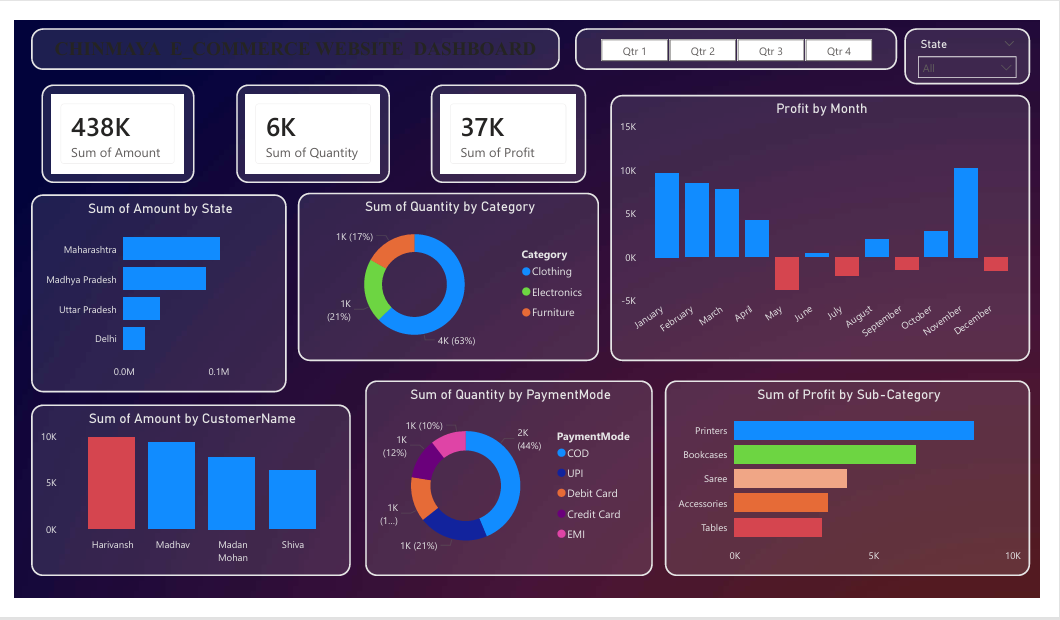

The page's visual inventory and layout, read from the dashboard file:
{"tool":"powerbi","page":{"name":"Page 1","canvas":[1280,720],"ordinal":0},"visuals":[{"type":"textbox","box":[20.6,9.6,660,52.1],"z":0},{"type":"columnChart","title":"Profit by Month","fields":{"Category":["Orders.Order Date.Variation.Date Hierarchy.Month"],"Y":["Sum(Details.Profit)"]},"box":[743.7,93.3,524.2,332.1],"z":1000},{"type":"barChart","fields":{"Category":["Details.Sub-Category"],"Y":["Sum(Details.Profit)"]},"box":[812.4,448.7,455.6,244.3],"z":2000},{"type":"donutChart","fields":{"Category":["Details.Category"],"Y":["Sum(Details.Quantity)"]},"box":[354,215.4,376,209.9],"z":3000},{"type":"donutChart","fields":{"Category":["Details.PaymentMode"],"Y":["Sum(Details.Quantity)"]},"box":[437.7,448.7,359.5,244.3],"z":4000},{"type":"cardVisual","fields":{"Data":["Sum(Details.Amount)"]},"box":[34.3,79.6,190.7,123.5],"z":5000},{"type":"cardVisual","fields":{"Data":["Sum(Details.Quantity)"]},"box":[277.2,79.6,192.1,123.5],"z":6000},{"type":"cardVisual","fields":{"Data":["Sum(Details.Profit)"]},"box":[520.1,79.6,193.5,123.5],"z":7000},{"type":"barChart","fields":{"Category":["Orders.State"],"Y":["Sum(Details.Amount)"]},"box":[20.6,216.8,319.7,247],"z":8000},{"type":"columnChart","fields":{"Category":["Orders.CustomerName"],"Y":["Sum(Details.Amount)"]},"box":[20.6,478.9,399.3,214.1],"z":9000},{"type":"slicer","fields":{"Values":["Orders.Order Date.Variation.Date Hierarchy.Quarter"]},"box":[699.8,9.6,402.1,52.1],"z":10000},{"type":"slicer","fields":{"Values":["Orders.State"]},"box":[1111.1,9.7,156.8,70],"z":11000}]}

Visuals, with their boxes in screenshot pixels (x1, y1, x2, y2):
textbox: bbox(17, 19, 556, 61)
"Profit by Month" columnChart: bbox(607, 87, 1035, 358)
barChart - Details.Sub-Category x Sum(Details.Profit): bbox(663, 377, 1036, 577)
donutChart - Details.Category x Sum(Details.Quantity): bbox(289, 187, 596, 358)
donutChart - Details.PaymentMode x Sum(Details.Quantity): bbox(357, 377, 651, 577)
cardVisual - Sum(Details.Amount): bbox(28, 76, 184, 177)
cardVisual - Sum(Details.Quantity): bbox(226, 76, 383, 177)
cardVisual - Sum(Details.Profit): bbox(425, 76, 583, 177)
barChart - Orders.State x Sum(Details.Amount): bbox(17, 188, 278, 390)
columnChart - Orders.CustomerName x Sum(Details.Amount): bbox(17, 402, 343, 577)
slicer - Orders.Order Date.Variation.Date Hierarchy.Quarter: bbox(572, 19, 900, 61)
slicer - Orders.State: bbox(907, 19, 1035, 76)
